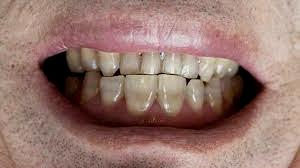Discoloration: (156, 76, 187, 120), (123, 73, 159, 110), (78, 69, 105, 103), (101, 75, 127, 108), (184, 80, 206, 112), (97, 49, 121, 77), (79, 45, 98, 75)
